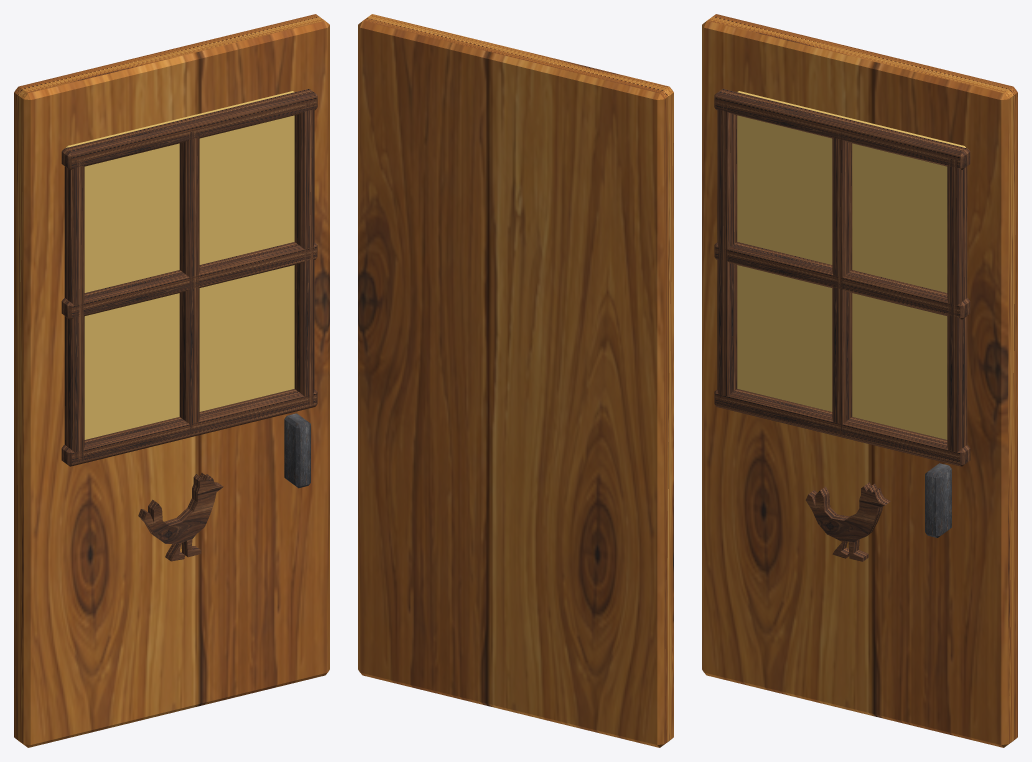
The model's file is ChickenStore_Cozy_Door.fbx.
The picture shows the model from 3 angles, left to right: view 1: azimuth 30°, elevation 25°; view 2: azimuth 150°, elevation 25°; view 3: azimuth 330°, elevation 25°; orthographic projection.
Visible parts, largest first — view 1: ChickenStore_Cozy_Door; view 2: ChickenStore_Cozy_Door; view 3: ChickenStore_Cozy_Door.
Part boxes in pixels (<box>): ChickenStore_Cozy_Door: <box>14,14,329,747</box>; ChickenStore_Cozy_Door: <box>358,14,673,747</box>; ChickenStore_Cozy_Door: <box>702,14,1017,747</box>.
Bounding box in the file's own units: 1.2 × 2.45 × 0.26.
